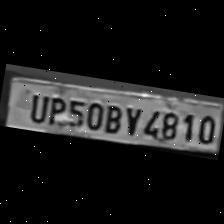0: (192, 110, 219, 146), (82, 97, 107, 132)
1: (176, 109, 198, 143)
4: (140, 104, 162, 140)
5: (62, 95, 87, 129)
8: (155, 107, 180, 143)
B: (100, 100, 125, 135)
P: (43, 92, 68, 128)
U: (23, 88, 50, 124)
V: (120, 102, 144, 138)
